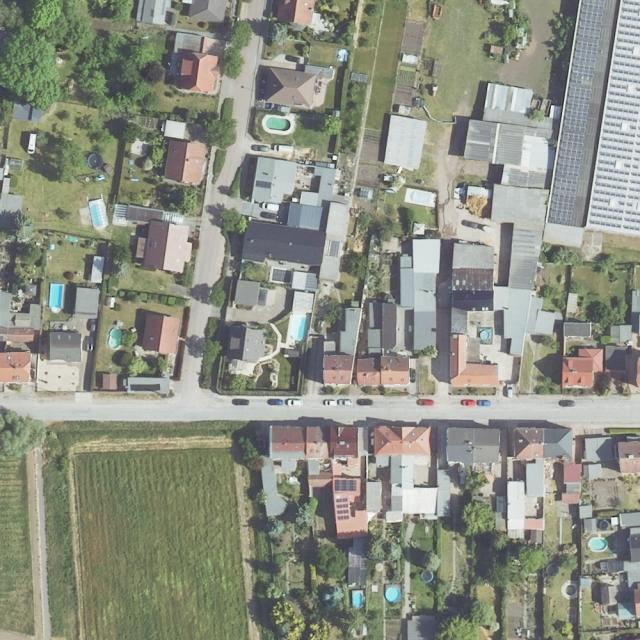PV: (547, 0, 605, 224), (589, 0, 640, 232), (336, 499, 349, 520), (335, 480, 356, 490)
ST: (255, 180, 271, 189)
